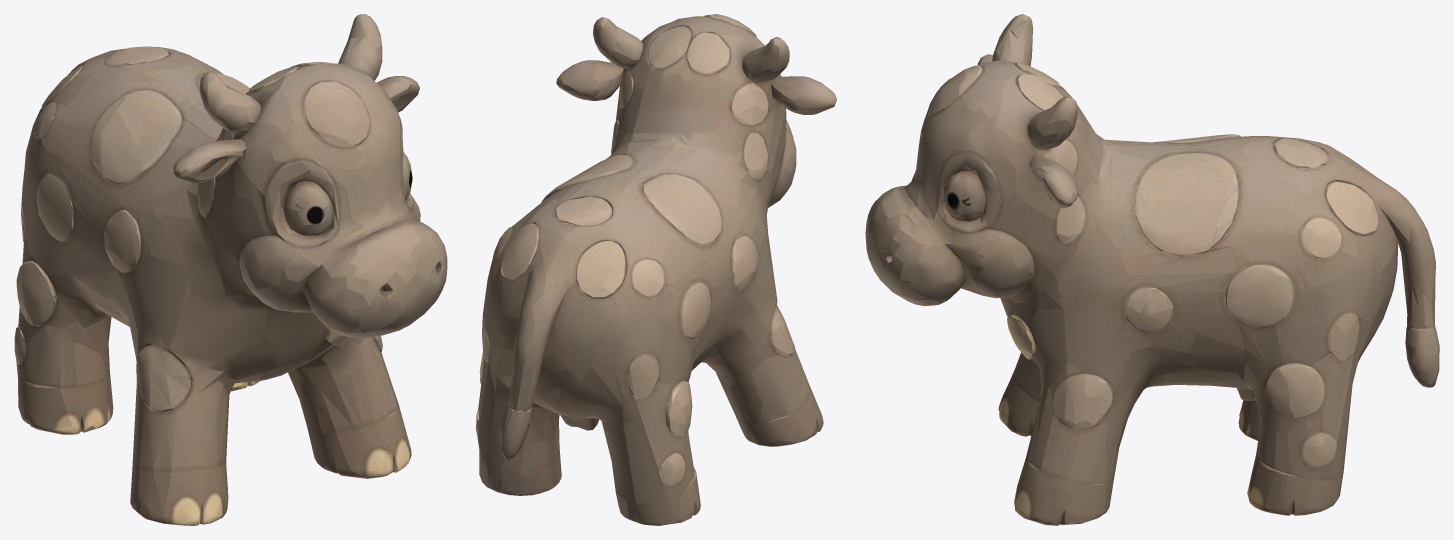
Rendered from cow.133d9ae8.glb.
3 views of the same model, side by side, from view 1: azimuth 30°, elevation 25°; view 2: azimuth 150°, elevation 25°; view 3: azimuth 270°, elevation 25° (orthographic). The views are drawn at different scales.
Visible parts, largest first — view 1: output_unwrapped; view 2: output_unwrapped; view 3: output_unwrapped.
Part boxes in pixels (bbox=[...]): output_unwrapped: bbox=[14, 14, 447, 525]; output_unwrapped: bbox=[476, 14, 836, 525]; output_unwrapped: bbox=[865, 14, 1439, 525].
Bounding box in the file's own units: 1.04 × 1.52 × 1.9.
Materials: 1 (1 with a texture image).
